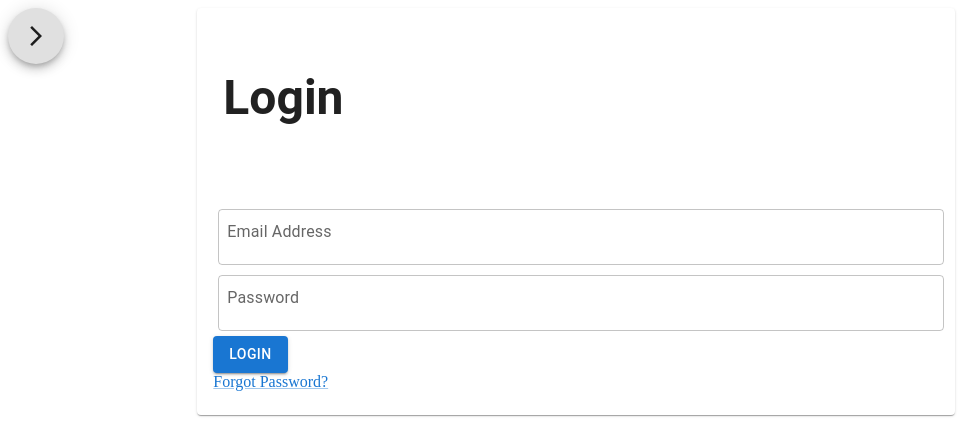
it: Login Page › should set error to Credential provided are invalid if credentials invalid
Type "test" into the field with id "email". click: (581, 237)
box: [218,209,943,265]
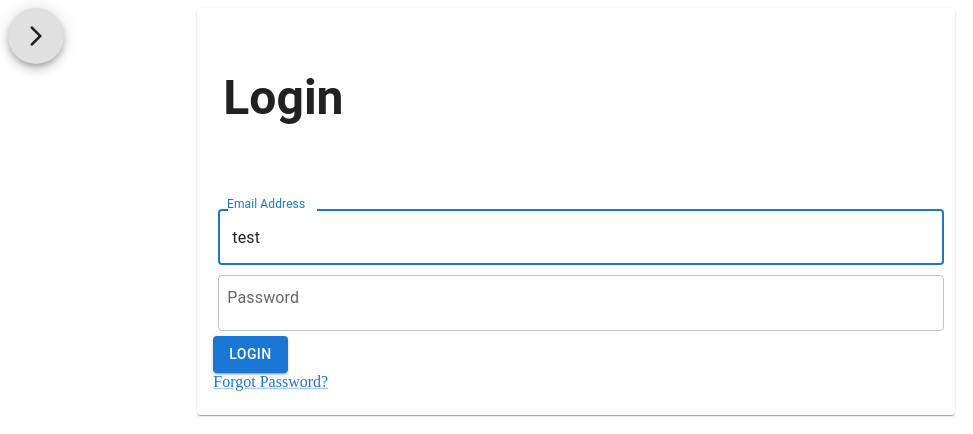
Type "password" into the password field labelled "Password". click: (581, 303)
box: [218,275,943,331]
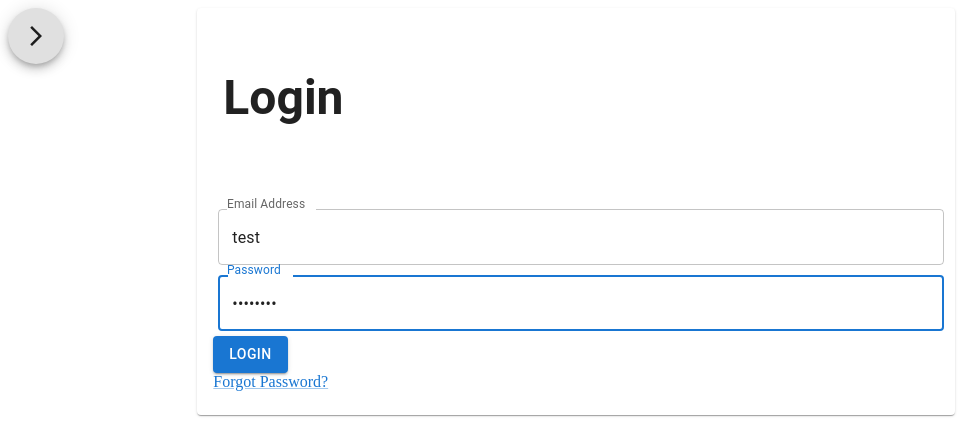
Click the button with id "login-submit". click: (250, 355)
box: [213,336,287,373]
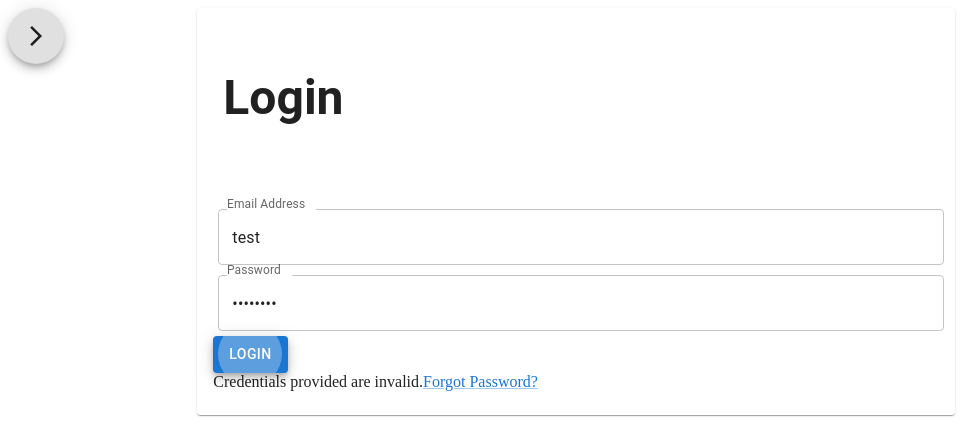
Now the text with id "form-error-login-form" reads "Credentials provided are invalid.", box [213,373,423,390]
